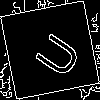U: (25, 25, 84, 81)
